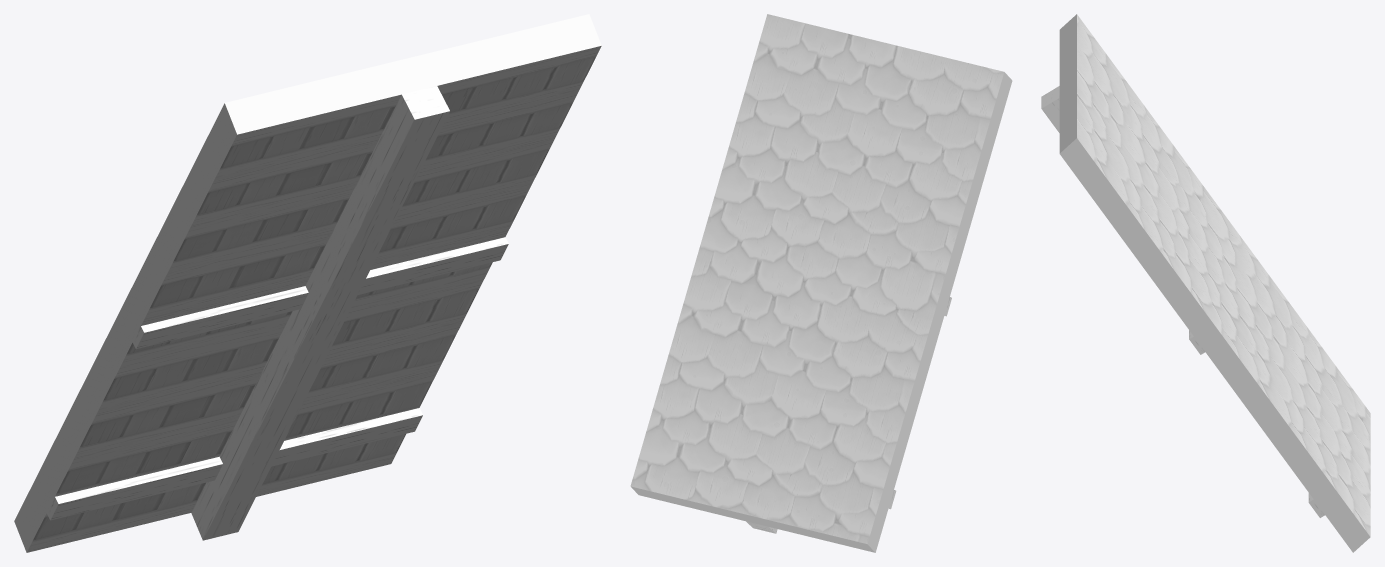
Rendered from ARC0110015.fbx.
The picture shows the model from 3 angles, left to right: view 1: azimuth 30°, elevation 25°; view 2: azimuth 150°, elevation 25°; view 3: azimuth 270°, elevation 25°; orthographic projection. The views are drawn at different scales.
Parts seen in each view (by area): view 1: smARC0110015; view 2: smARC0110015; view 3: smARC0110015.
Boxes of the visible parts, box(x1,y1,x2,y2) form: smARC0110015: box(14, 14, 601, 552); smARC0110015: box(630, 14, 1012, 552); smARC0110015: box(1041, 14, 1370, 552).
Size of what is drawn, in the model's own units: 228 by 367 by 255.
1 material, 1 textured.
